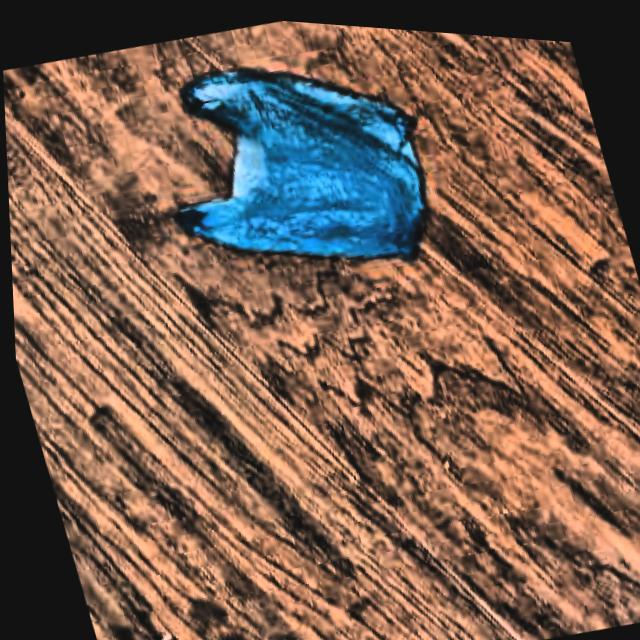Plastic: (120, 7, 471, 331)
